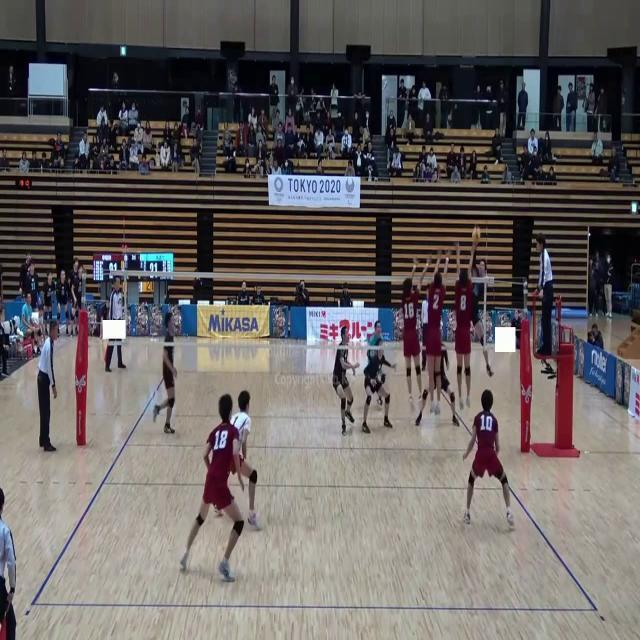volleyball: (471, 228, 481, 242)
